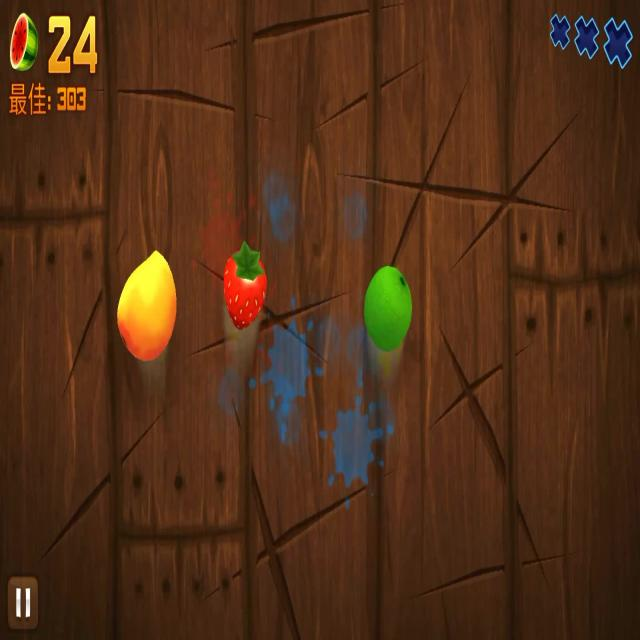fruit: (118, 250, 176, 362), (363, 262, 413, 350), (223, 246, 266, 334)
